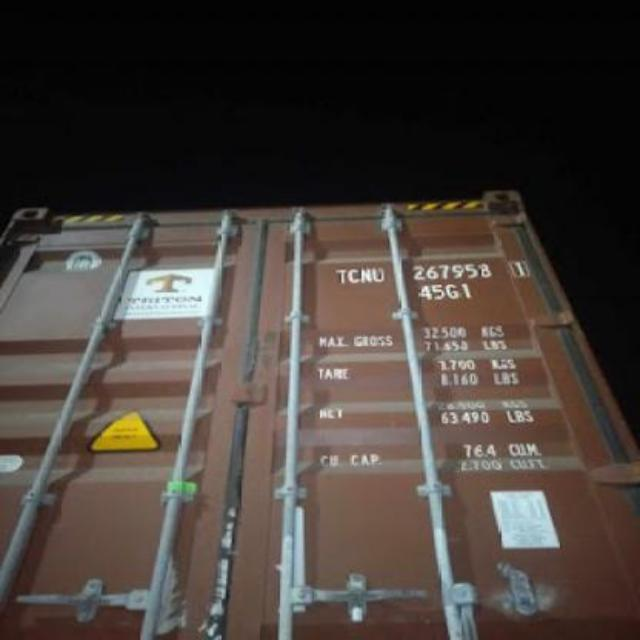1: (508, 258, 530, 278)
2: (411, 258, 424, 286)
5: (464, 259, 480, 279)
6: (424, 258, 436, 282)
7: (438, 252, 450, 280)
8: (478, 256, 492, 280)
9: (452, 253, 464, 280)
C: (346, 262, 359, 286)
N: (361, 262, 374, 288)
T: (330, 261, 348, 285)
U: (374, 254, 386, 286)
